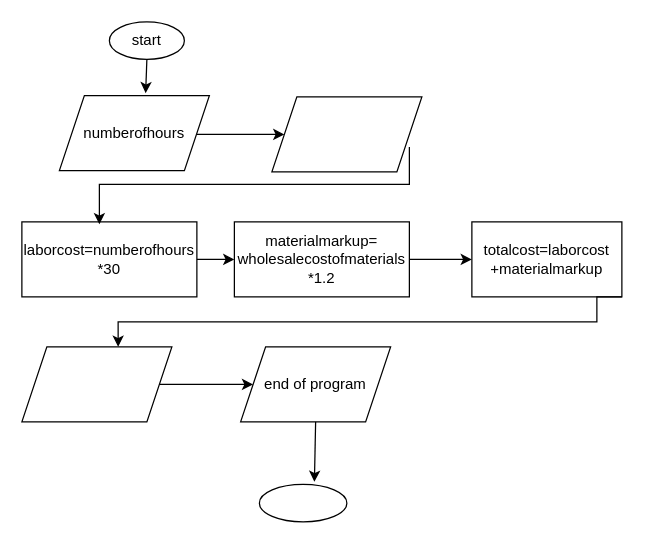
Image size: 654x544. Some labels were removed from this diagram. Here are the shapes that lost their labels. From the top down, the box of each, then its label:
(271, 96, 422, 172): wholesalecostof materials
(21, 346, 172, 422): totalcost
(258, 483, 347, 522): end
